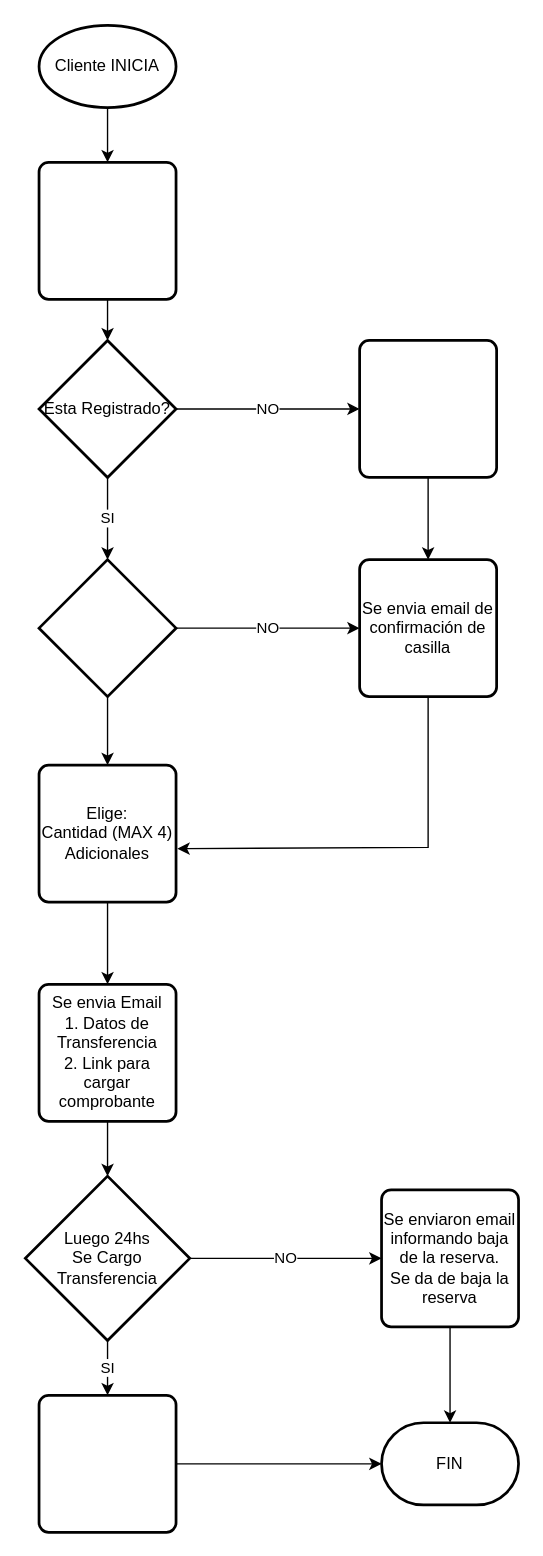
The diagram is 543 pixels wide and 1556 high, and some of its shapes have lost their labels. The centre of each missing label's shape, as x and y in pixels:
"Email Verificado?" belongs at (x=107, y=627).
"Quiere Reservar desde landing page" belongs at (x=107, y=230).
"Registra: Nom y Ape Email Contraseńa" belongs at (x=427, y=408).
"Se verifica Transferencia. ENTRADA/S VENDIDA/S" belongs at (x=107, y=1463).
